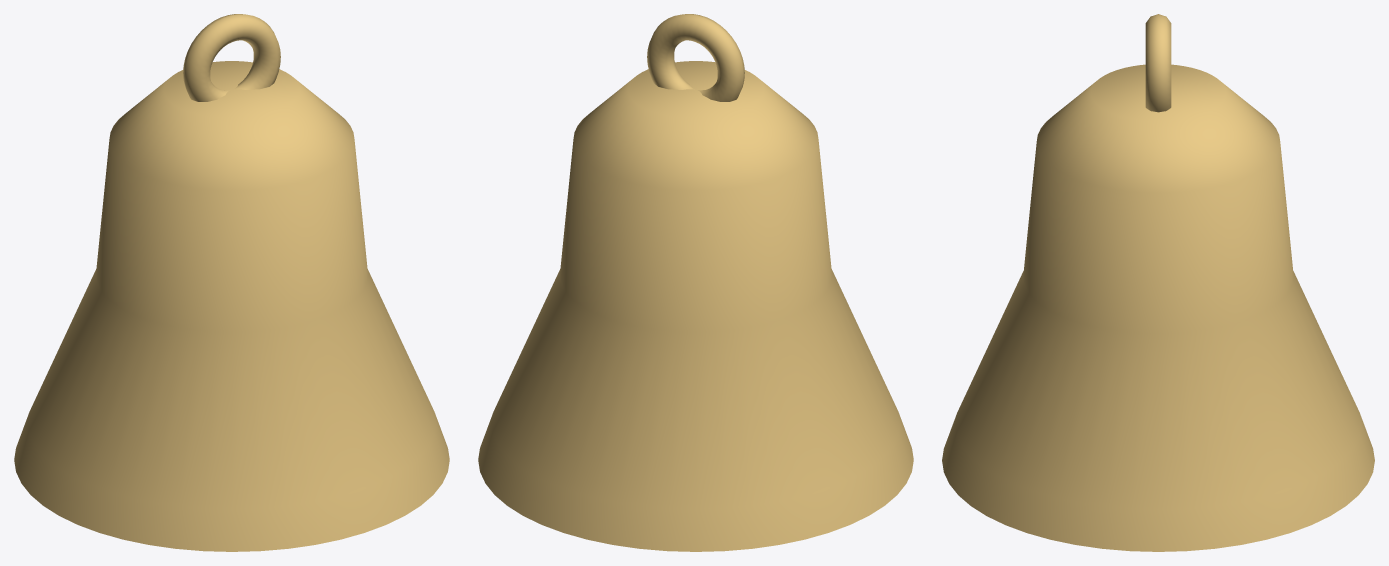
Rendered from bell.glb.
The picture shows the model from 3 angles, left to right: view 1: azimuth 30°, elevation 25°; view 2: azimuth 150°, elevation 25°; view 3: azimuth 270°, elevation 25°; orthographic projection.
Visible parts, largest first — view 1: bell, crown; view 2: bell, crown; view 3: bell, crown.
Part boxes in pixels (x1,y1,x2,y2): bell: (14, 61, 449, 551); crown: (183, 14, 280, 101); bell: (478, 61, 913, 551); crown: (647, 14, 744, 101); bell: (942, 64, 1374, 551); crown: (1145, 14, 1171, 112).
Size of the model in its own units: 0.32 by 0.36 by 0.32.
